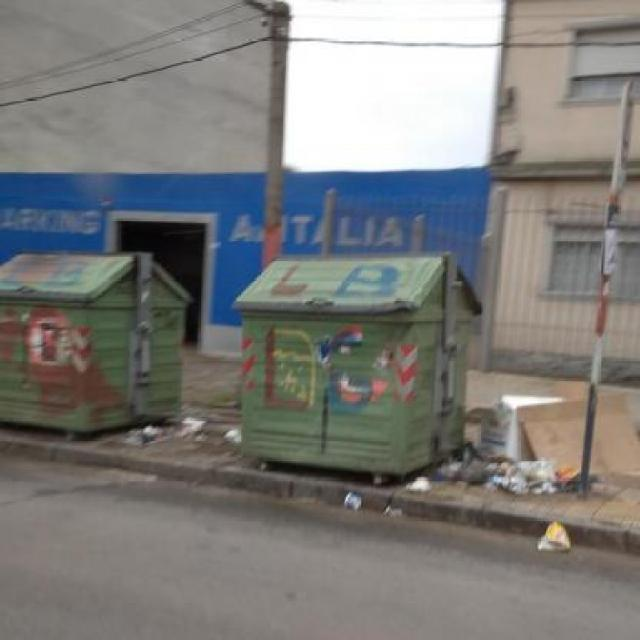garbage: (483, 393, 618, 580), (329, 465, 434, 541), (128, 412, 250, 456), (451, 429, 506, 486)
